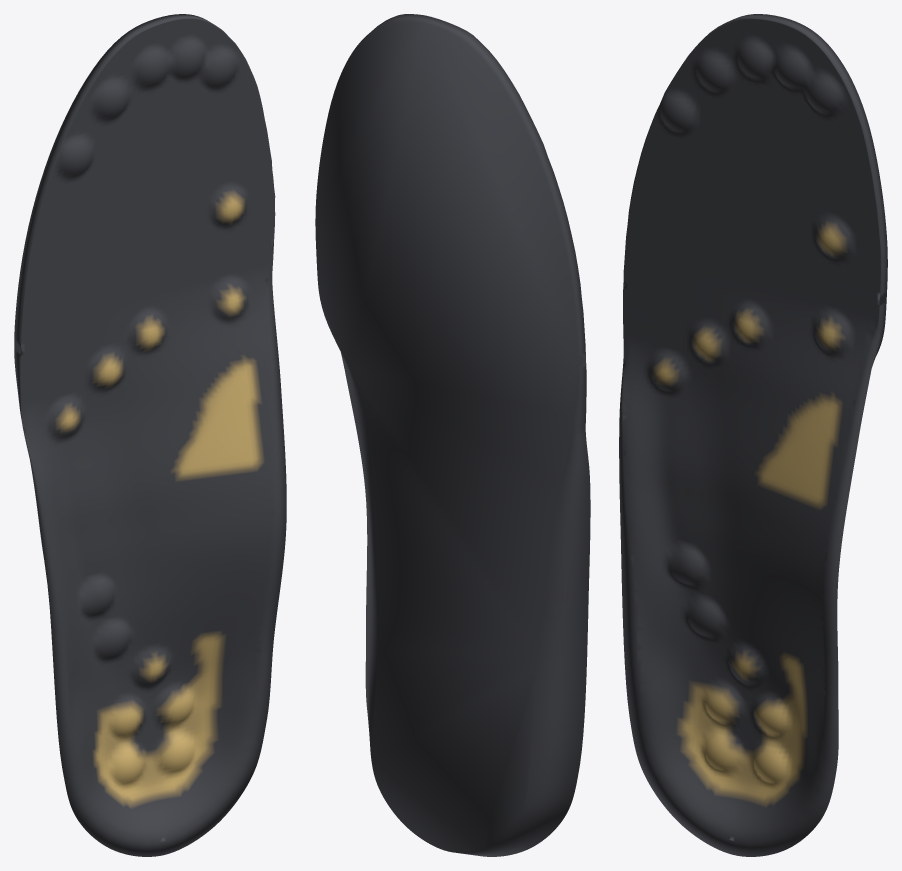
File: SG-SENSORY-BUMPS_LEFT.glb
The picture shows the model from 3 angles, left to right: view 1: azimuth 30°, elevation 25°; view 2: azimuth 150°, elevation 25°; view 3: azimuth 330°, elevation 25°; orthographic projection. The views are drawn at different scales.
Parts seen in each view (by area): view 1: sensory_bumps.stl; view 2: sensory_bumps.stl; view 3: sensory_bumps.stl.
Boxes of the visible parts, bbox=[...] form: sensory_bumps.stl: bbox=[14, 14, 286, 856]; sensory_bumps.stl: bbox=[315, 14, 590, 856]; sensory_bumps.stl: bbox=[619, 14, 887, 856].
Size of the model in its own units: 99.56 by 304 by 22.83.
